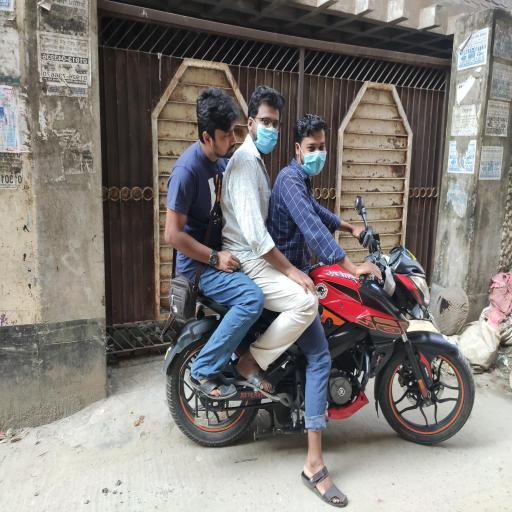no helmet: (294, 107, 347, 179)
triple riding: (152, 47, 481, 472)
